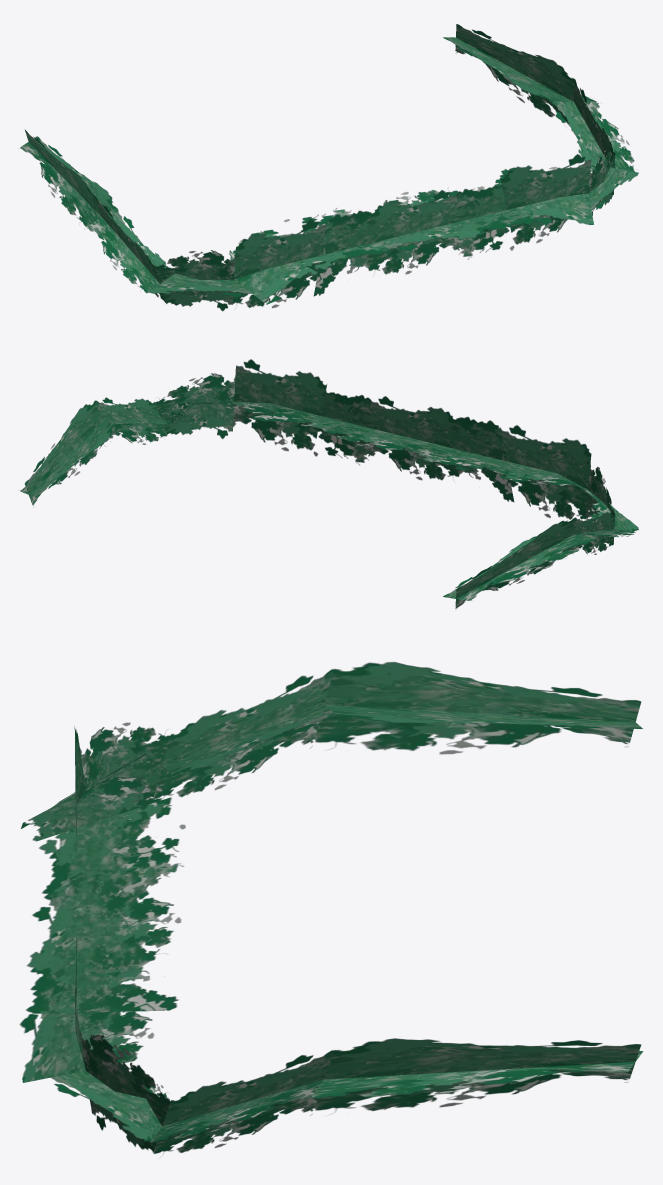
The model's file is pm-wreath-03.glb.
3 views of the same model, one above another, from view 1: azimuth 30°, elevation 25°; view 2: azimuth 150°, elevation 25°; view 3: azimuth 270°, elevation 25° (orthographic). The views are drawn at different scales.
Visible parts, largest first — view 1: Wreath03; view 2: Wreath03; view 3: Wreath03.
Part boxes in pixels (x1,y1,x2,y2): Wreath03: (20,24,638,311); Wreath03: (20,359,638,608); Wreath03: (19,662,643,1153).
Bounding box in the file's own units: 2.62 × 0.4897 × 1.65.
Materials: 1 (1 with a texture image).
